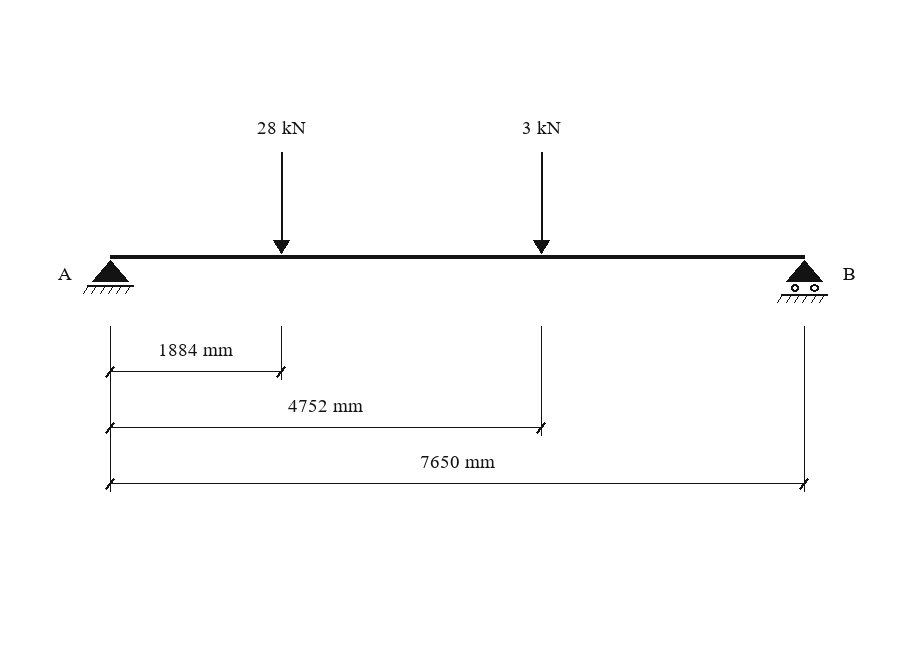pin_support: (83, 260, 134, 294)
point_load: (273, 152, 290, 254), (533, 152, 550, 254)
roller_support: (777, 260, 828, 303)
